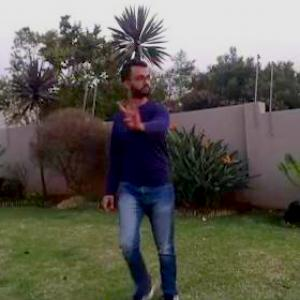takeoff-hand: (113, 94, 148, 133)
